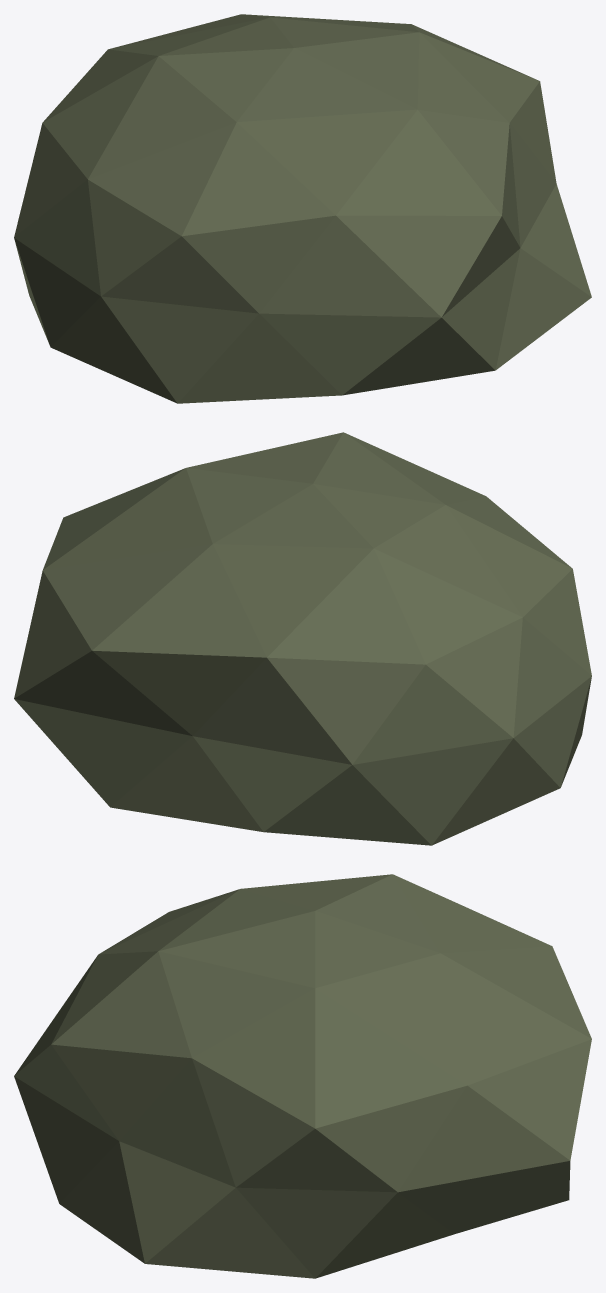
The model's file is rockInstances.obj.
3 renders of one model, top to bottom at view 1: azimuth 30°, elevation 25°; view 2: azimuth 150°, elevation 25°; view 3: azimuth 270°, elevation 25°, orthographic. The views are drawn at different scales.
Visible parts, largest first — view 1: rockInstances; view 2: rockInstances; view 3: rockInstances.
Part boxes in pixels (left/top/right/bottom): rockInstances: left=14, top=14, right=591, bottom=403; rockInstances: left=14, top=432, right=591, bottom=845; rockInstances: left=14, top=874, right=591, bottom=1278.
Size of the model in its own units: 1.73 by 1 by 1.73.
Materials: 1 (1 with a texture image).
